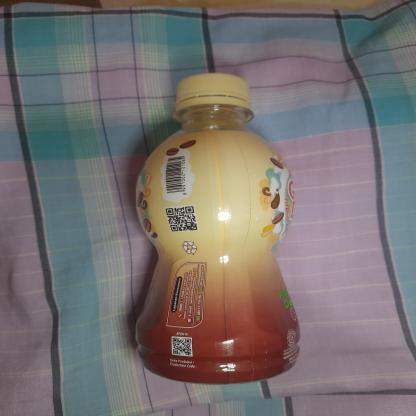bottle: (122, 68, 305, 386)
